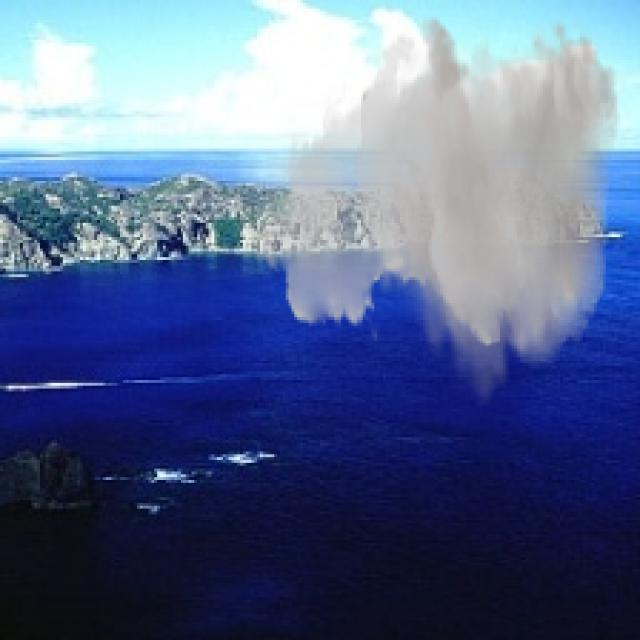Smoke: (237, 14, 620, 412)
